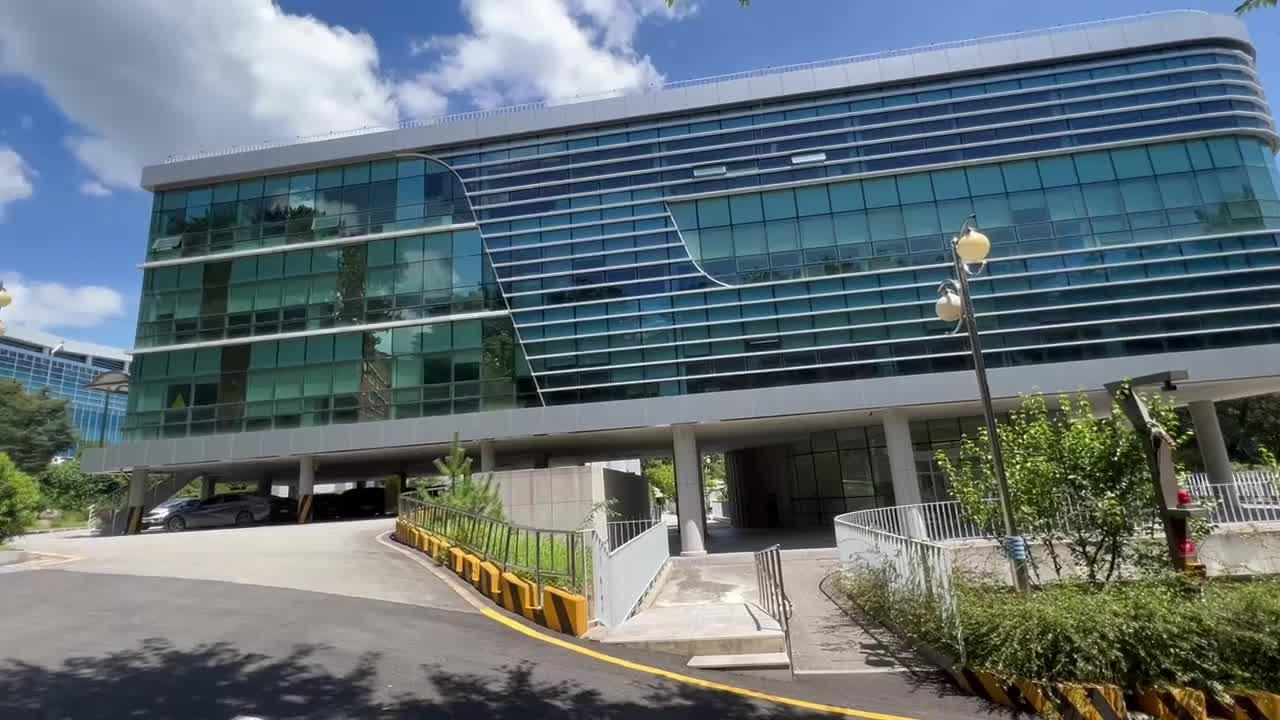building: (146, 21, 1280, 411)
